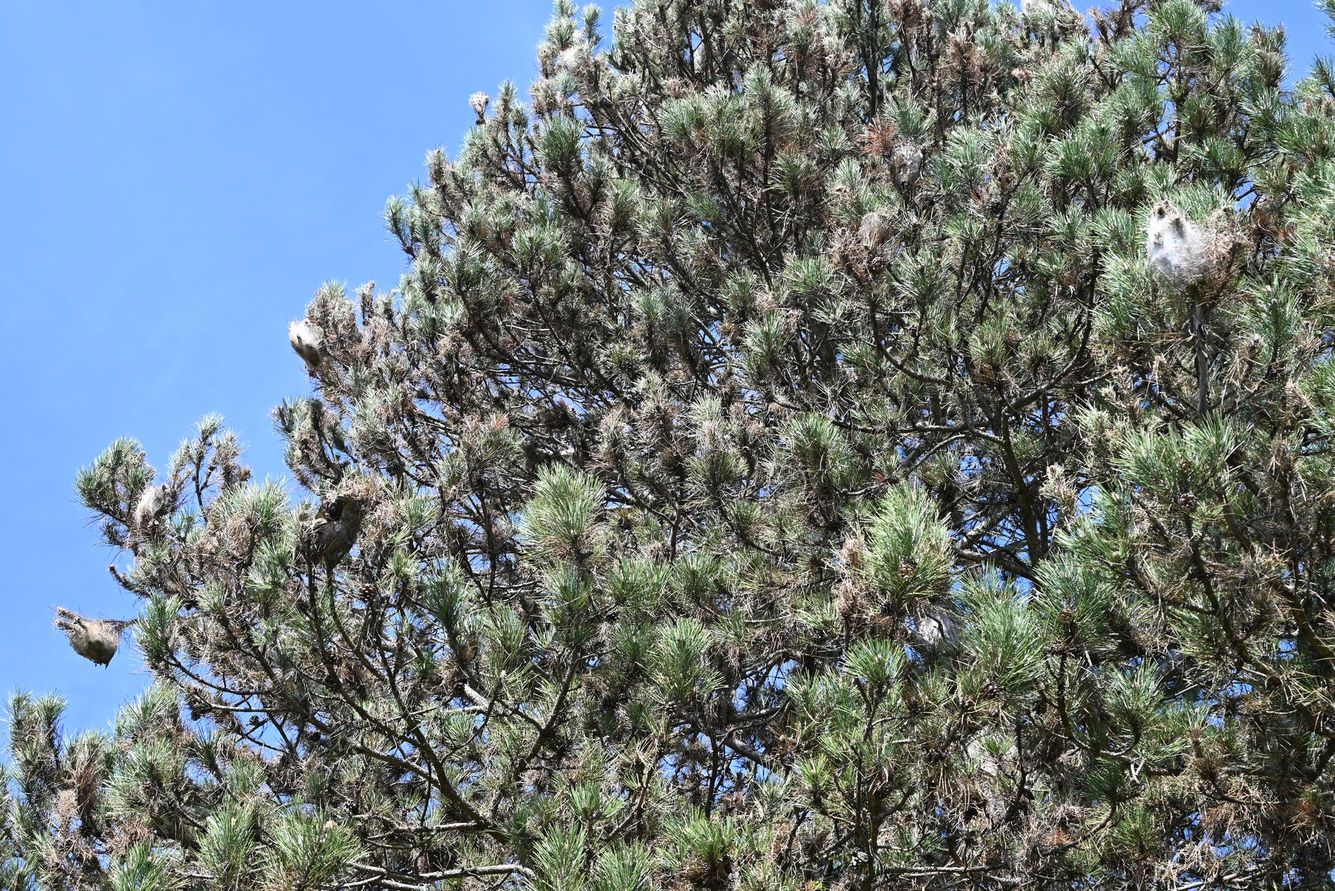thaumatopoea pityocampa jajno gnijezdo: (1142, 187, 1256, 292), (53, 606, 128, 667), (132, 482, 170, 535), (288, 321, 323, 355)
